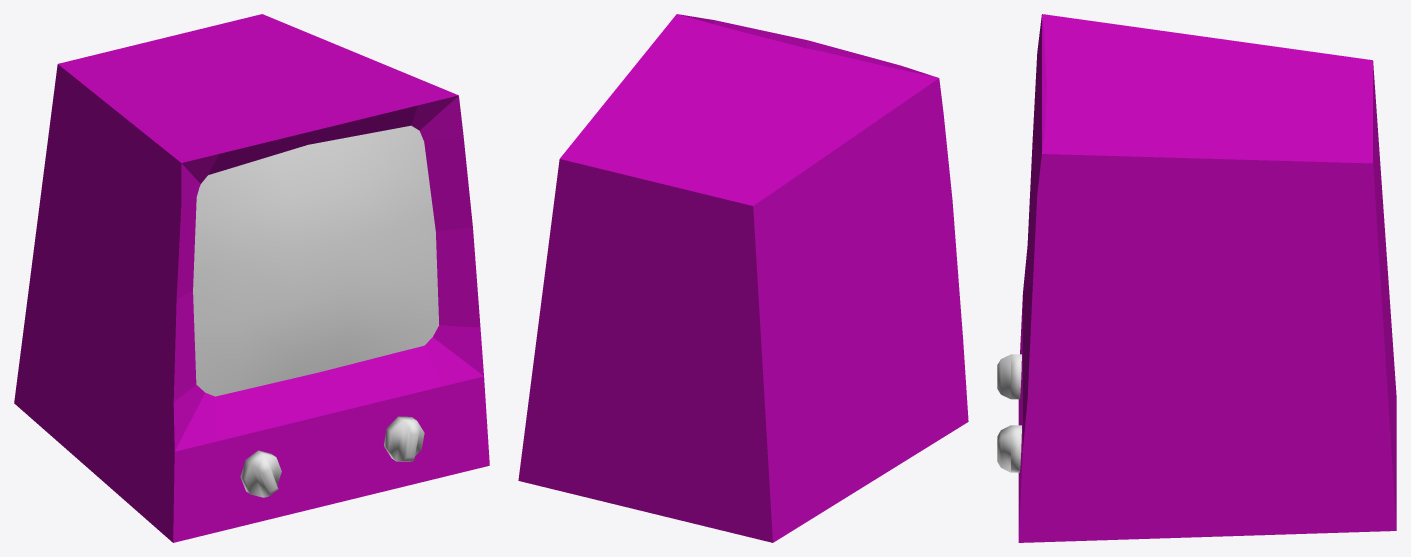
File: tv_old.fbx
3 views of the same model, side by side, from view 1: azimuth 30°, elevation 25°; view 2: azimuth 150°, elevation 25°; view 3: azimuth 270°, elevation 25° (orthographic). The views are drawn at different scales.
Parts seen in each view (by area): view 1: tv, screen, buttons; view 2: tv; view 3: tv, buttons.
Part boxes in pixels (<box>): tv: <box>14,14,489,542</box>; screen: <box>193,125,438,396</box>; buttons: <box>240,416,424,497</box>; tv: <box>518,14,968,542</box>; tv: <box>1018,14,1396,542</box>; buttons: <box>997,354,1021,472</box>.
Bounding box in the file's own units: 40 × 45 × 42.23.
